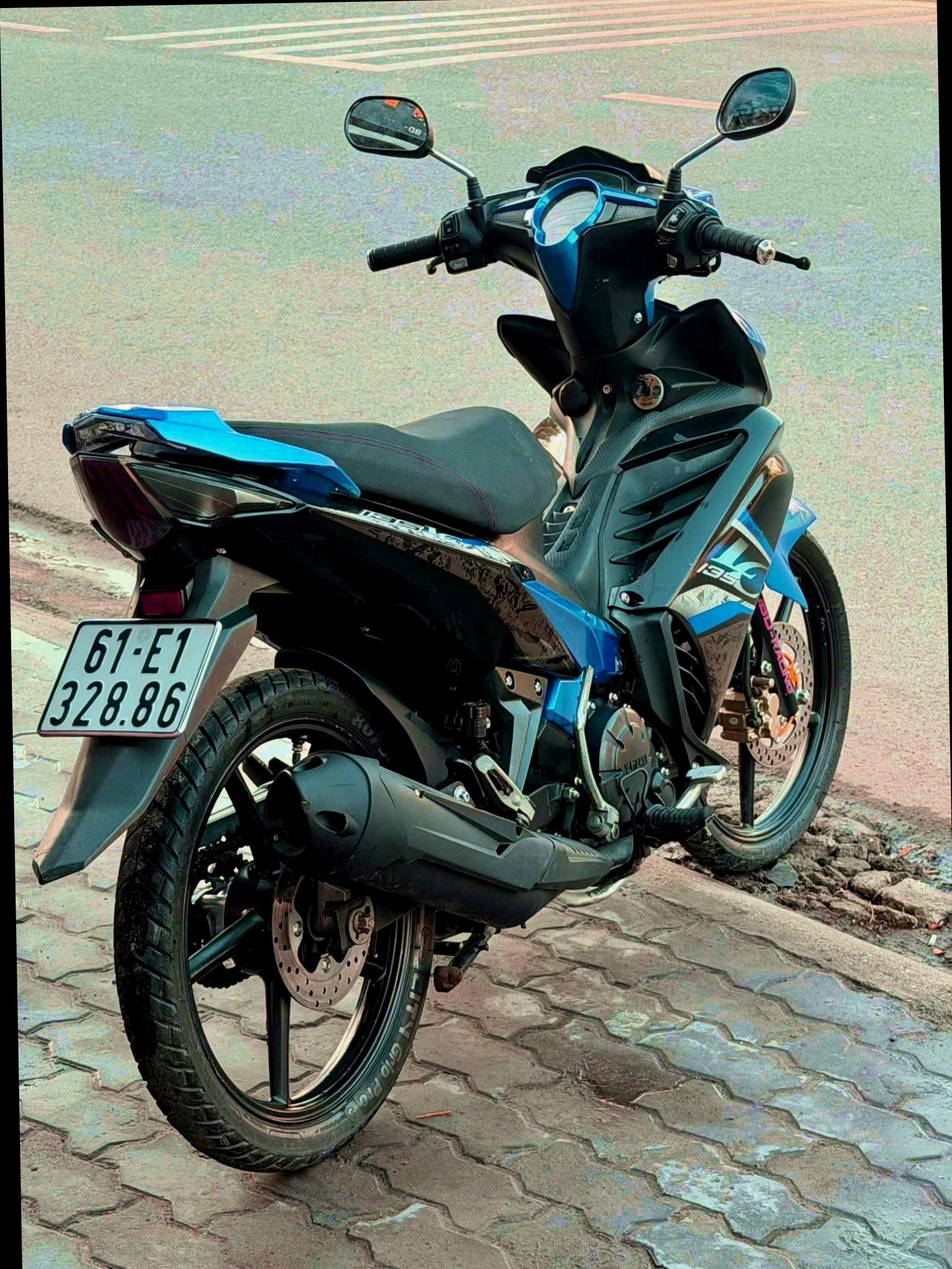Bien-so: (60, 611, 233, 730)
